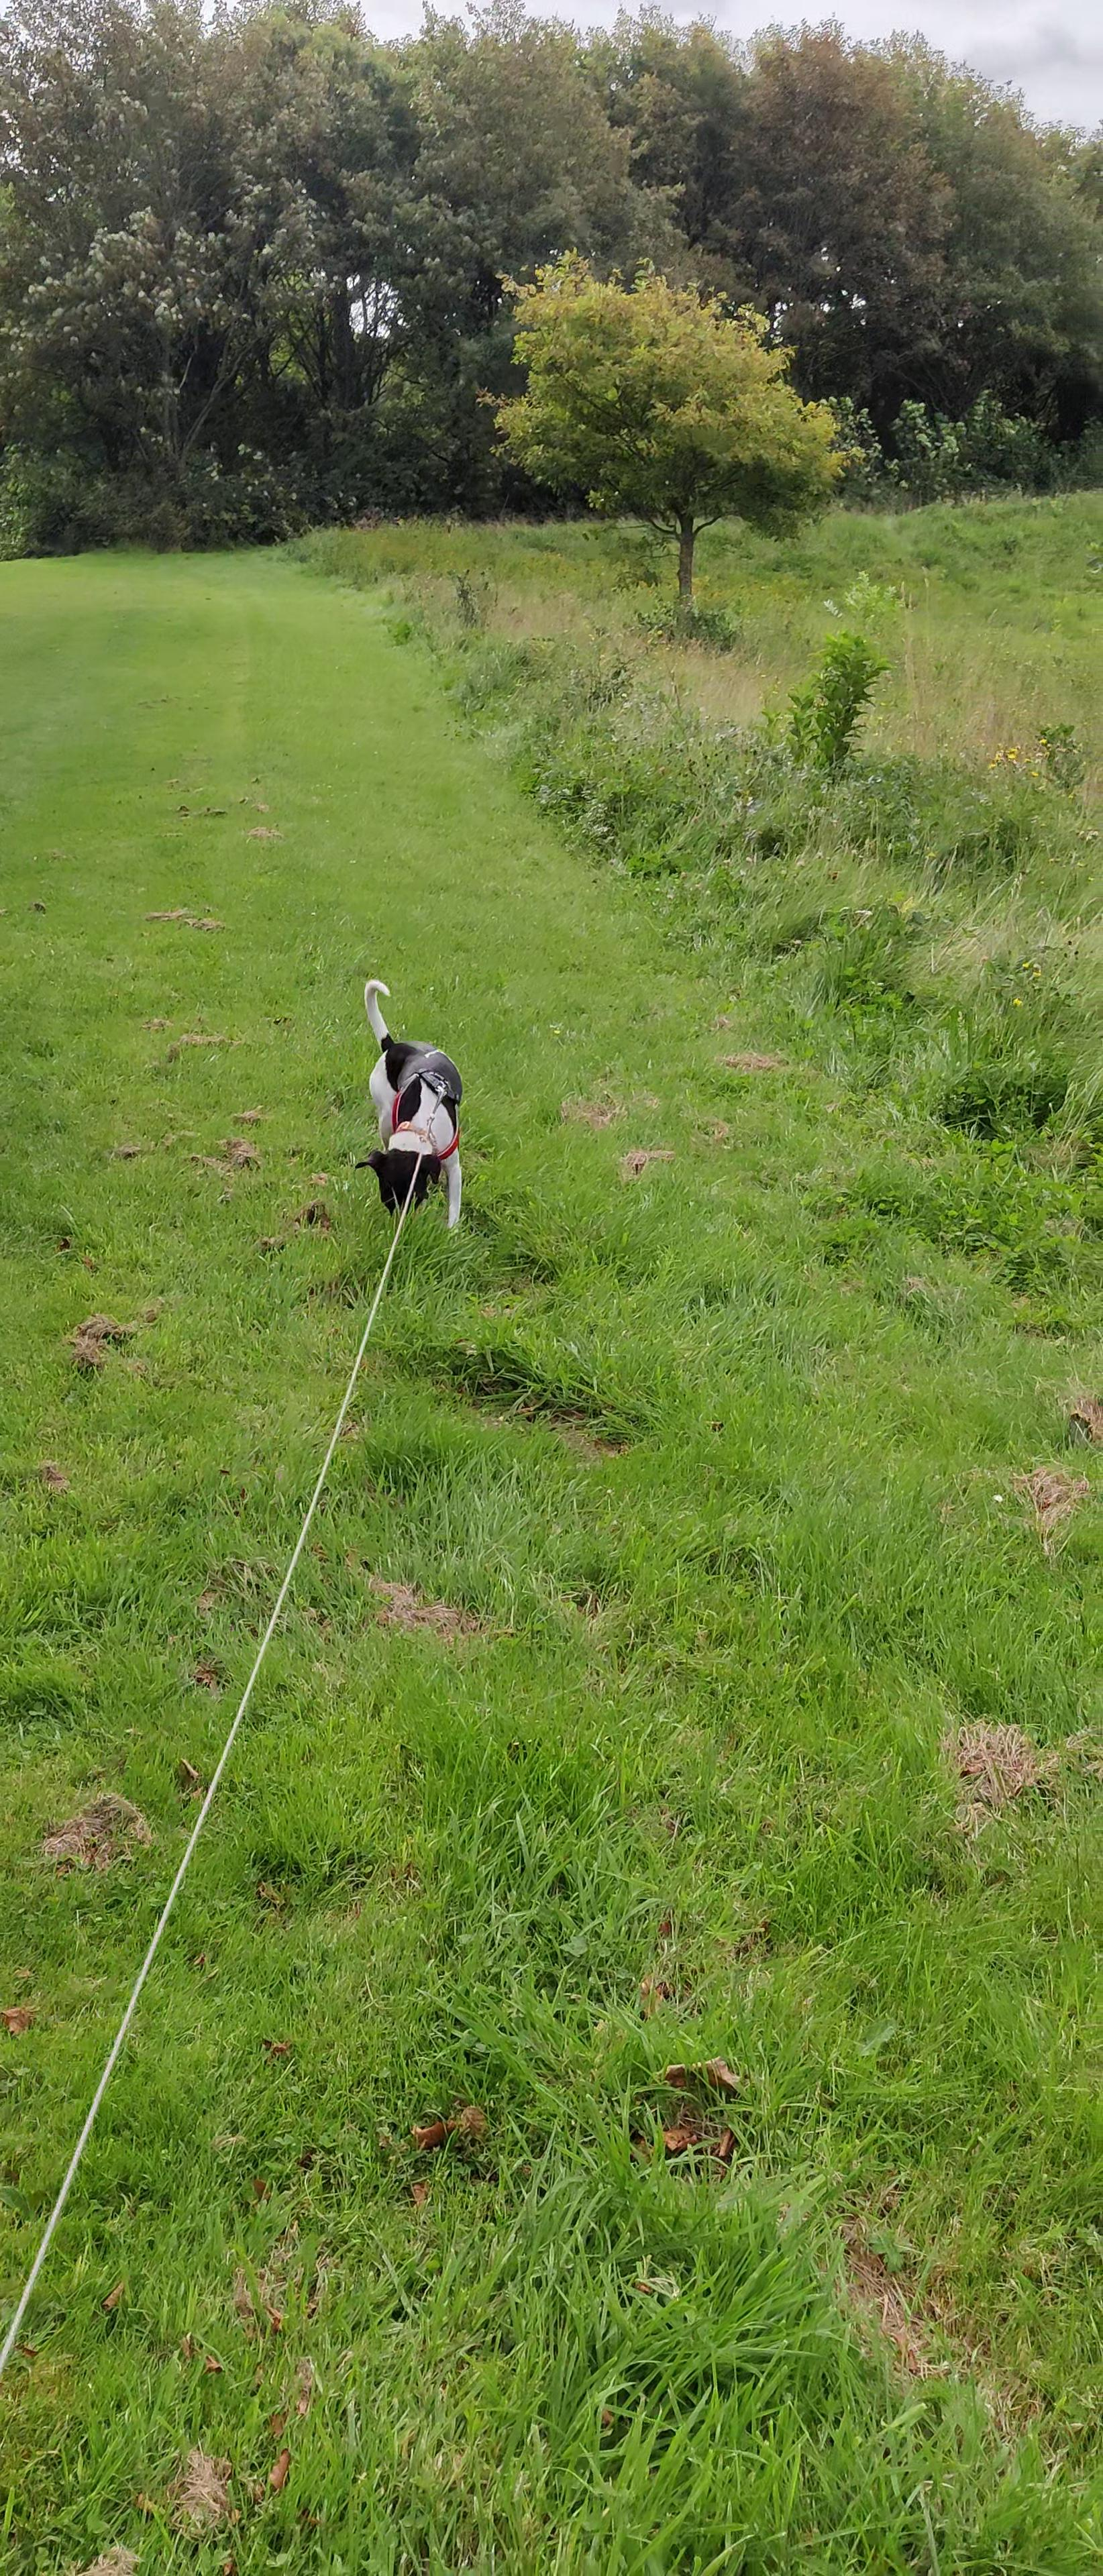Dog: (348, 973, 472, 1234)
